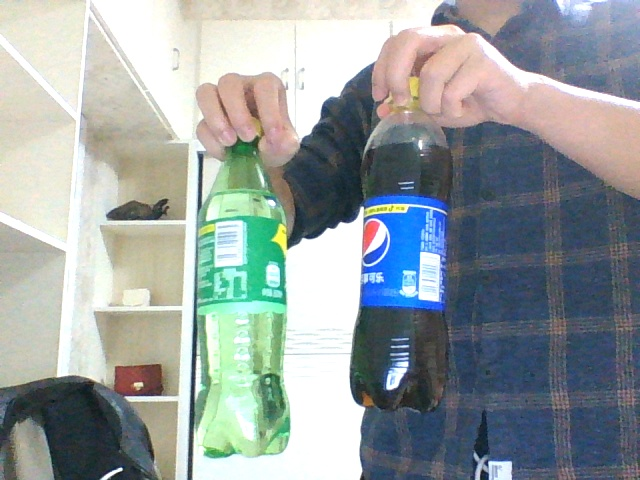Cola: (350, 77, 451, 413)
Sprite: (186, 116, 290, 460)
